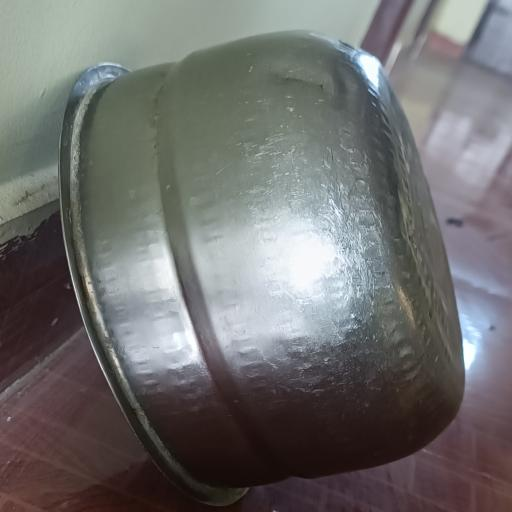vessel: (61, 32, 464, 504)
